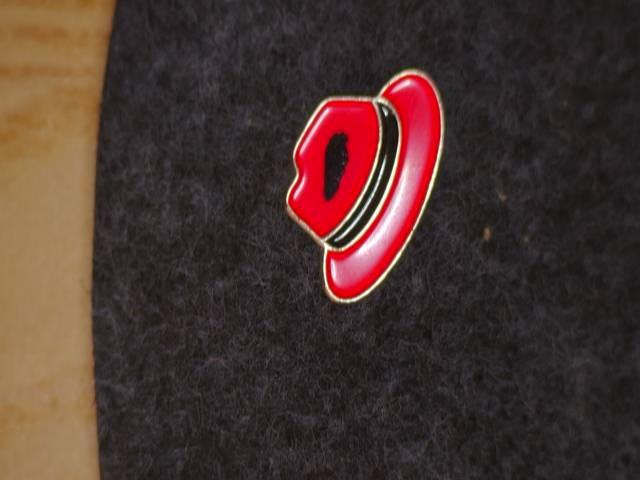Red-Hat: (269, 54, 462, 322)
Scratch: (313, 120, 371, 213)
